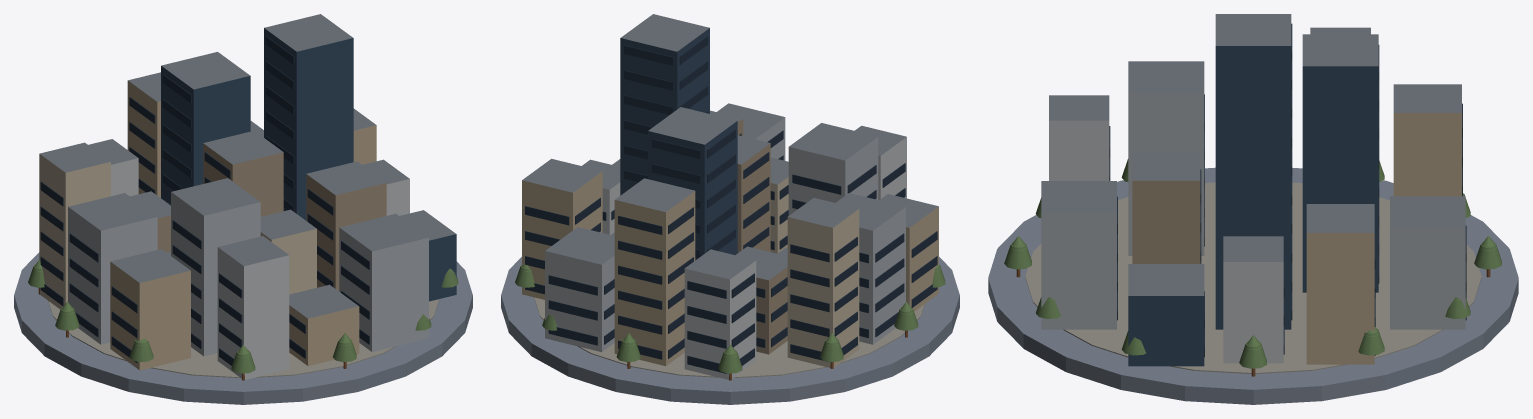
The model's file is city.glb.
3 views of the same model, side by side, from view 1: azimuth 30°, elevation 25°; view 2: azimuth 150°, elevation 25°; view 3: azimuth 270°, elevation 25° (orthographic). The views are drawn at different scales.
Visible parts, largest first — view 1: city; view 2: city; view 3: city.
Part boxes in pixels (bbox=[...]): city: bbox=[14, 14, 472, 404]; city: bbox=[501, 14, 959, 404]; city: bbox=[988, 14, 1518, 404].
Bounding box in the file's own units: 70 × 43.63 × 70.
